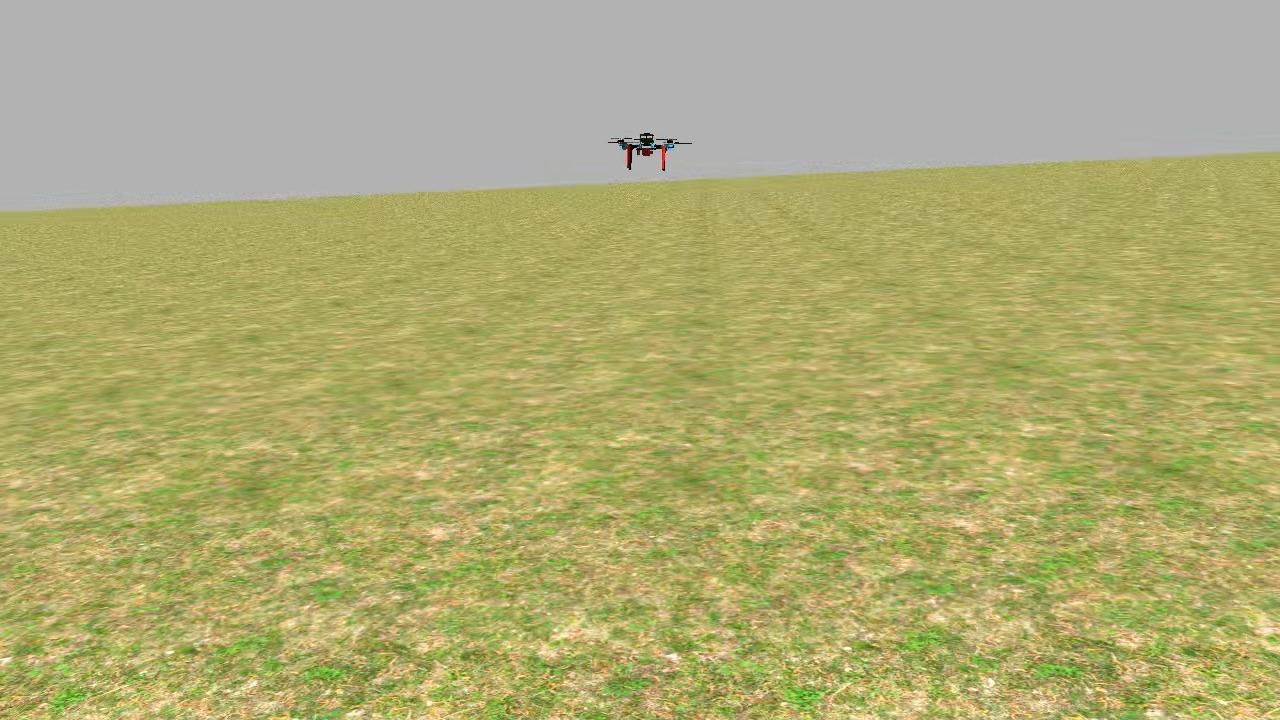UAV: (607, 122, 693, 175)
